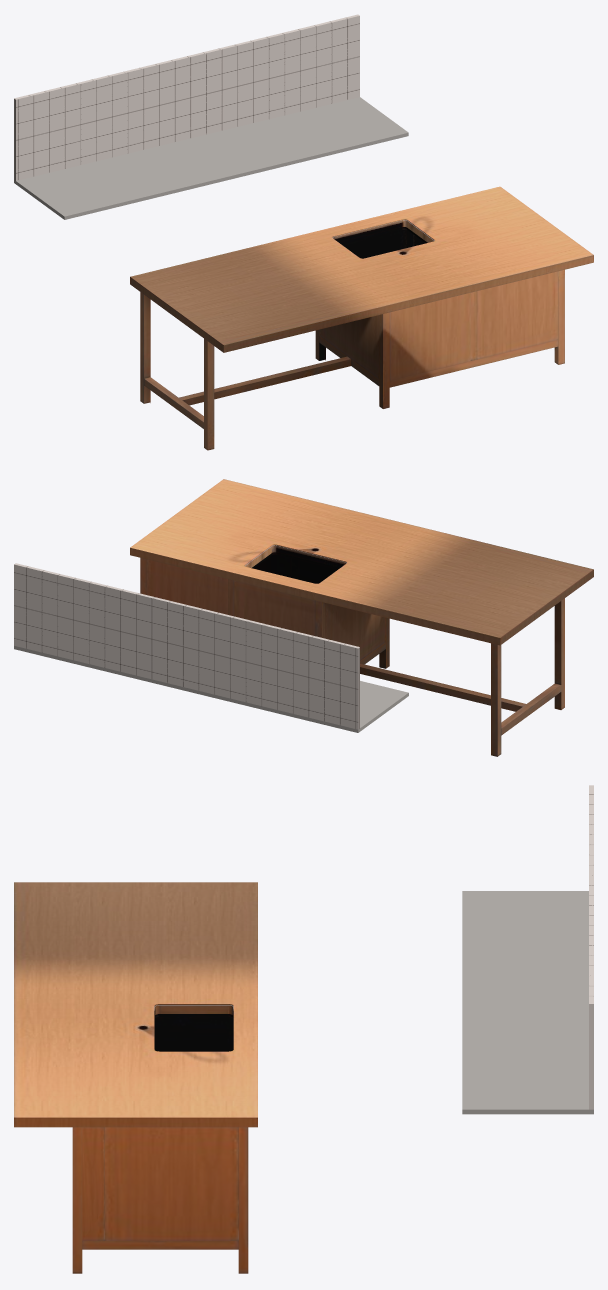
File: Counter_Top_Wood.glb
3 views of the same model, one above another, from view 1: azimuth 30°, elevation 25°; view 2: azimuth 150°, elevation 25°; view 3: azimuth 270°, elevation 25° (orthographic). The views are drawn at different scales.
Visible parts, largest first — view 1: Counter Wood, White_Kitchen_Backsplash.001, Table.001; view 2: Counter Wood, White_Kitchen_Backsplash.001, Table.001; view 3: Counter Wood, Table.001, White_Kitchen_Backsplash.001.
Part boxes in pixels (x1=…): Counter Wood: x1=14, y1=97, x2=593, y2=352; White_Kitchen_Backsplash.001: x1=14, y1=14, x2=359, y2=180; Table.001: x1=140, y1=220, x2=564, y2=450; Counter Wood: x1=14, y1=479, x2=593, y2=732; White_Kitchen_Backsplash.001: x1=14, y1=563, x2=359, y2=729; Table.001: x1=140, y1=545, x2=564, y2=756; Counter Wood: x1=14, y1=882, x2=593, y2=1127; Table.001: x1=72, y1=1005, x2=248, y2=1273; White_Kitchen_Backsplash.001: x1=589, y1=785, x2=593, y2=1109.
Size of the model in its own units: 1.14 by 0.6046 by 1.19.
5 materials, 3 textured.
